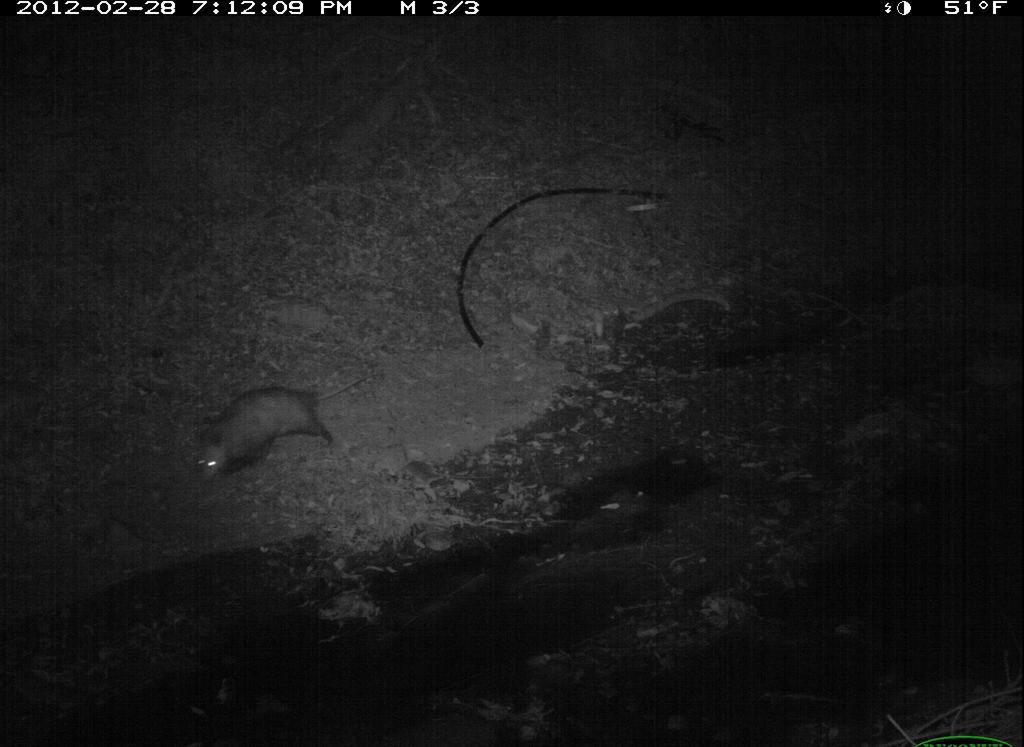opossum: (187, 365, 377, 489)
